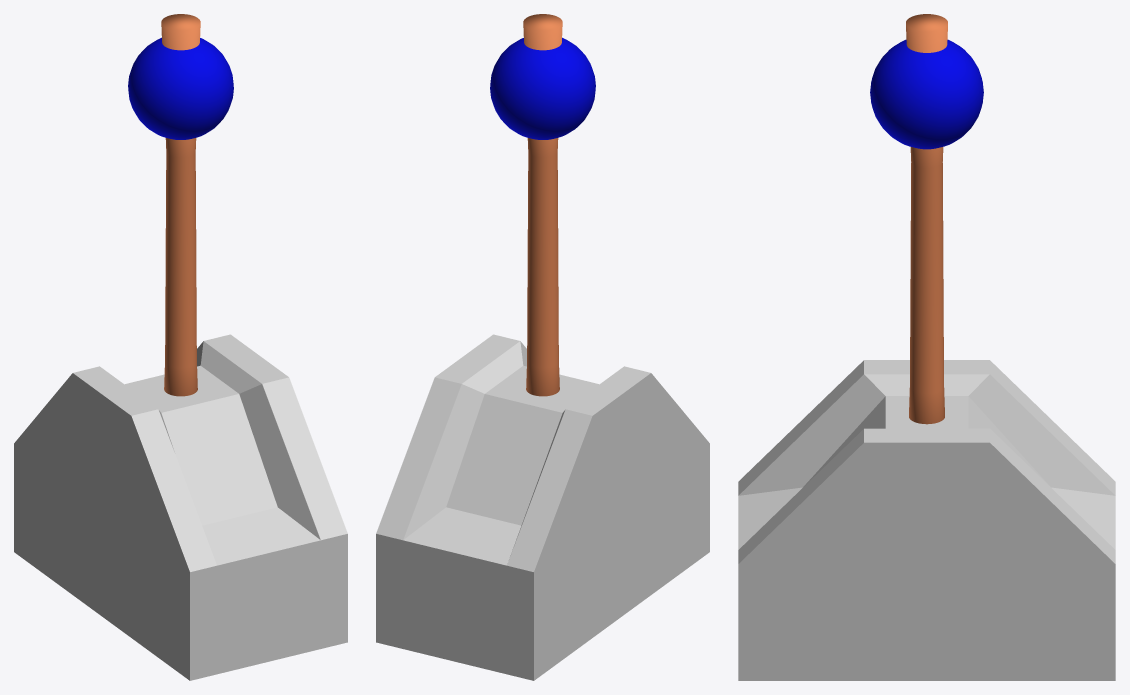
The model's file is lever_merged.fbx.
3 renders of one model, left to right at view 1: azimuth 30°, elevation 25°; view 2: azimuth 150°, elevation 25°; view 3: azimuth 270°, elevation 25°, orthographic. The views are drawn at different scales.
Visible parts, largest first — view 1: lever_merged; view 2: lever_merged; view 3: lever_merged.
Part boxes in pixels (x1,y1,x2,y2): lever_merged: [14, 14, 347, 680]; lever_merged: [376, 14, 709, 680]; lever_merged: [738, 14, 1115, 680].
Size of the model in its own units: 104 by 361 by 200.
